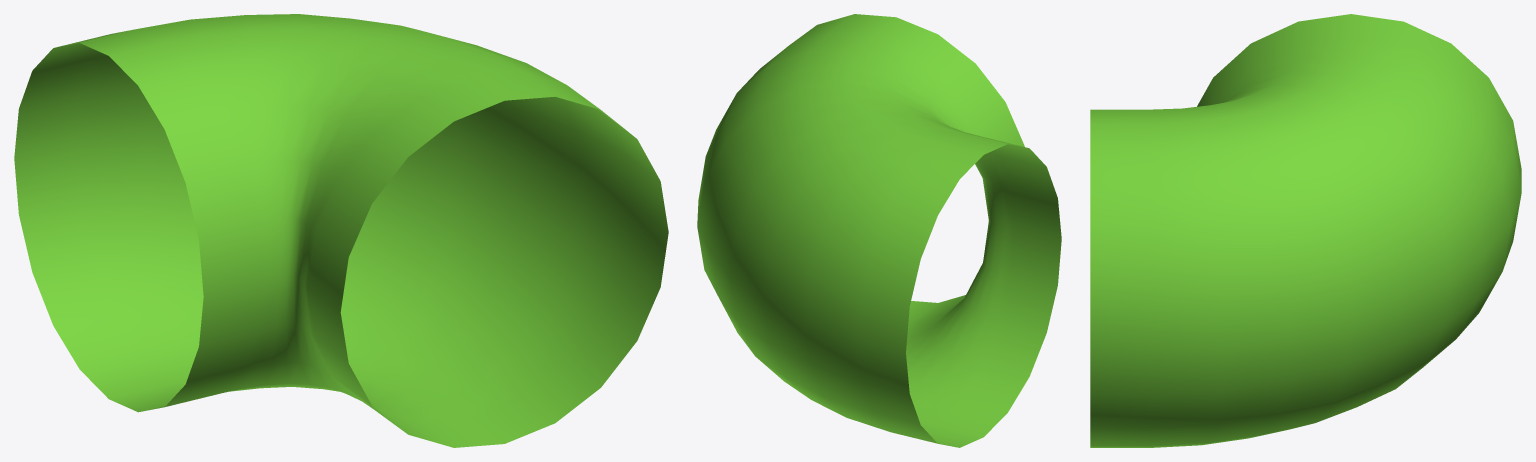
Rendered from SM_Pipes_CurveRight.fbx.
The picture shows the model from 3 angles, left to right: view 1: azimuth 30°, elevation 25°; view 2: azimuth 150°, elevation 25°; view 3: azimuth 270°, elevation 25°; orthographic projection. The views are drawn at different scales.
Parts seen in each view (by area): view 1: SM_Pipes_CurveRight; view 2: SM_Pipes_CurveRight; view 3: SM_Pipes_CurveRight.
Part boxes in pixels (left/top/right/bottom): SM_Pipes_CurveRight: left=14, top=14, right=668, bottom=447; SM_Pipes_CurveRight: left=697, top=14, right=1061, bottom=447; SM_Pipes_CurveRight: left=1090, top=14, right=1521, bottom=447.
Bounding box in the file's own units: 413 × 327 × 413.
